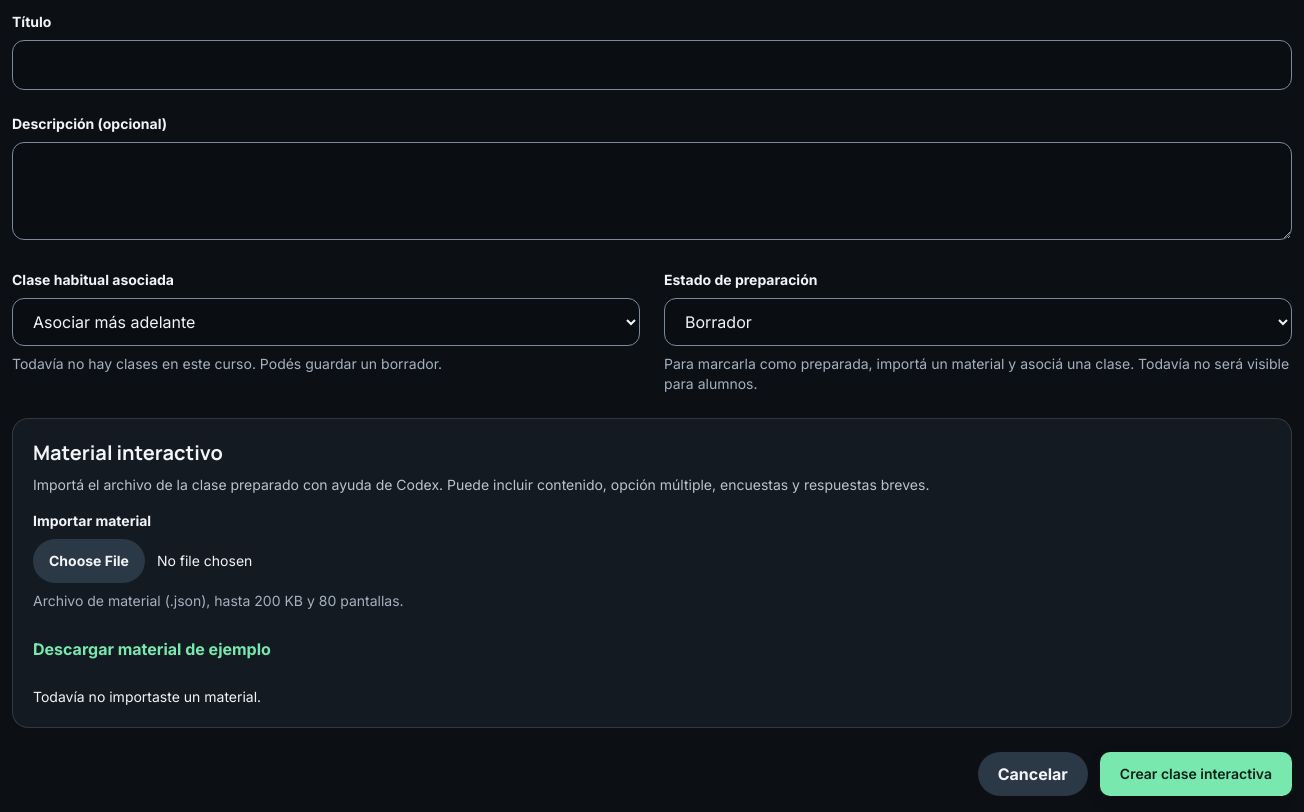
Scenario: preparación de clase interactiva › conserva los datos y permite reintentar un fallo al guardar
In the field labelled "Título": [652, 65] box [12,40,1292,90], type "Borrador"
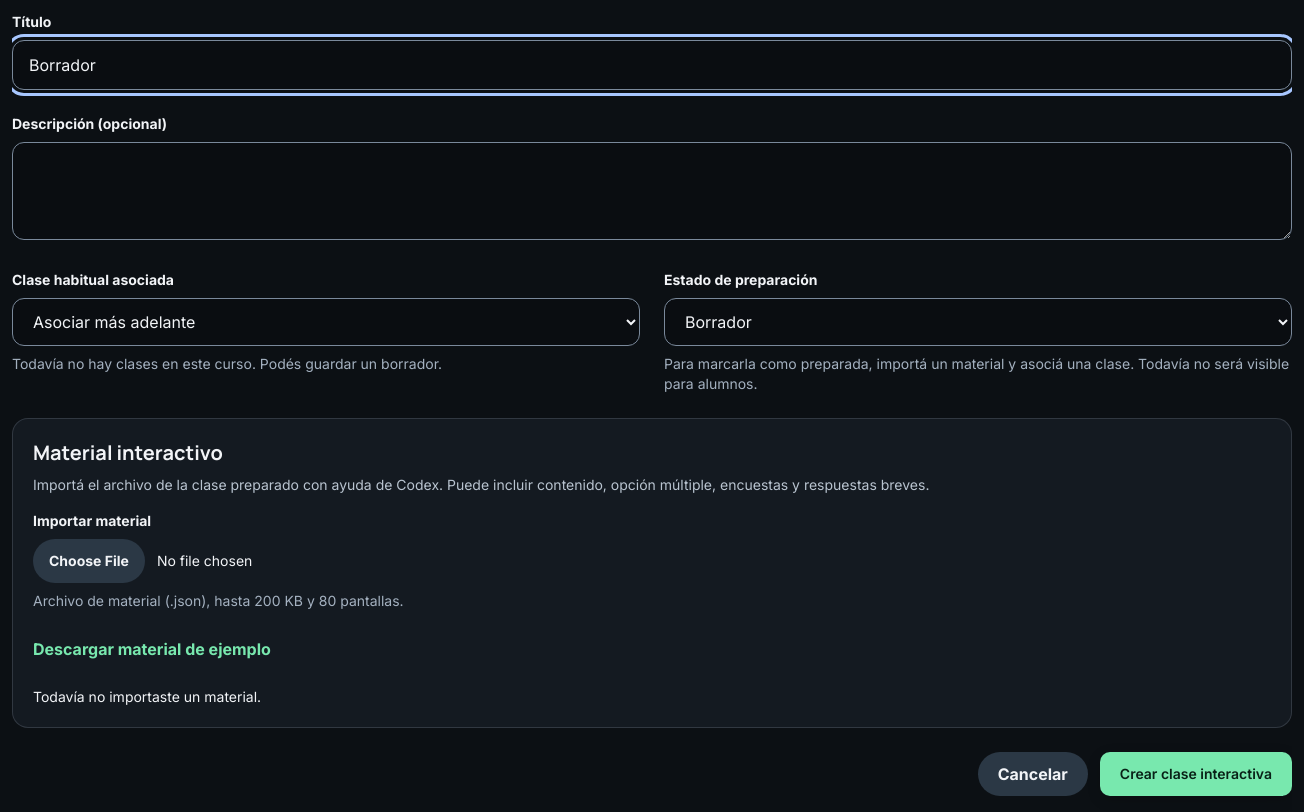
Click the button "Crear clase interactiva": [1196, 774] box [1100,752,1292,796]
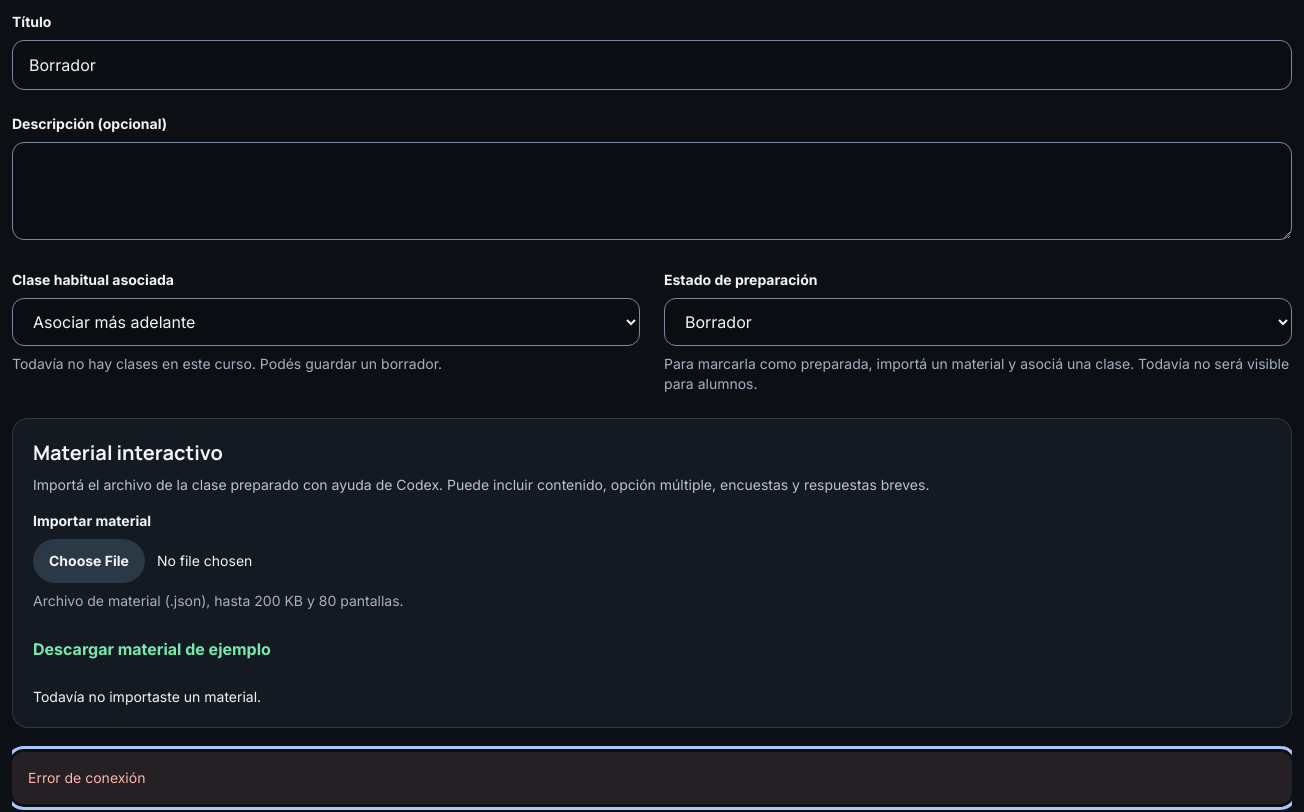
Expected: the message "Error de conexión" is shown, [12,752,1292,804]
